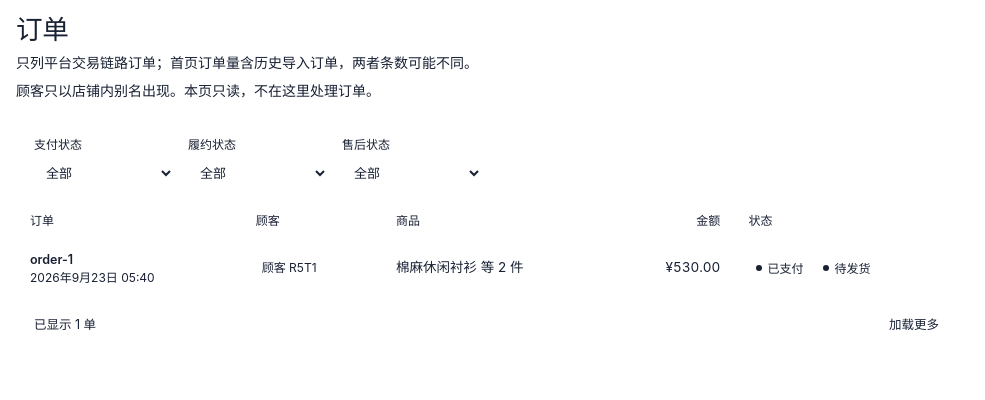
OrdersView › 加载更多带上游标与当前筛选并追加；换筛选后从第一页重来，不带旧游标
The width and height of the screenshot is (985, 400).
Select "已支付" in the dropdown with test id "filter-payment" at x=104, y=173, box [34,157,174,189]
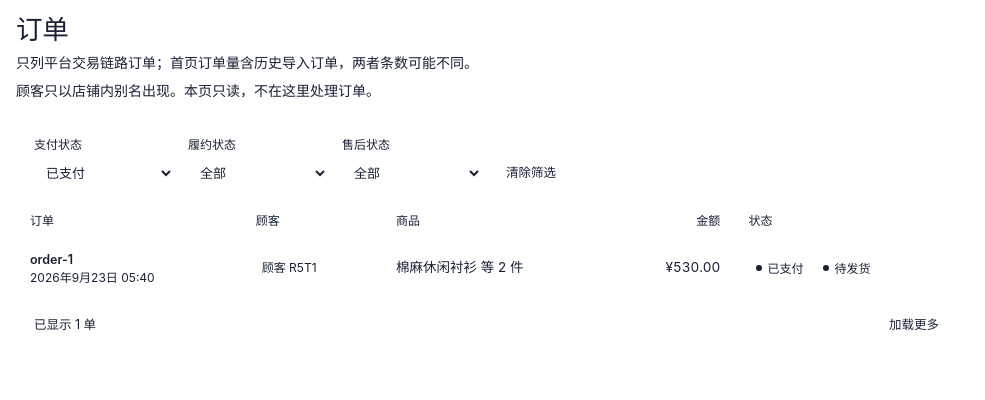
Click the button with test id "orders-load-more" at x=914, y=325, box [878,310,950,340]
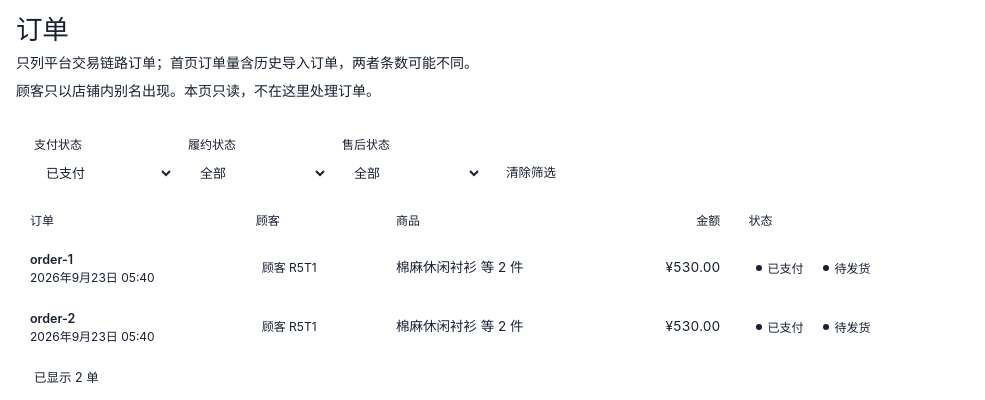
Now the number of rows with test id "order-row" is 2, box [16,239,968,298]; [16,298,968,357]
Select "待发货" in the dropdown with test id "filter-fulfillment" at x=258, y=173, box [188,157,328,189]
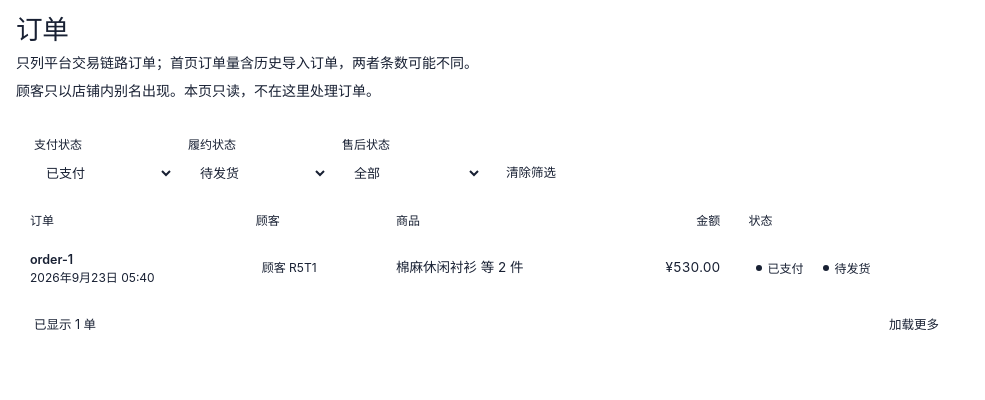
Now the number of rows with test id "order-row" is 1, box [16,239,968,298]
